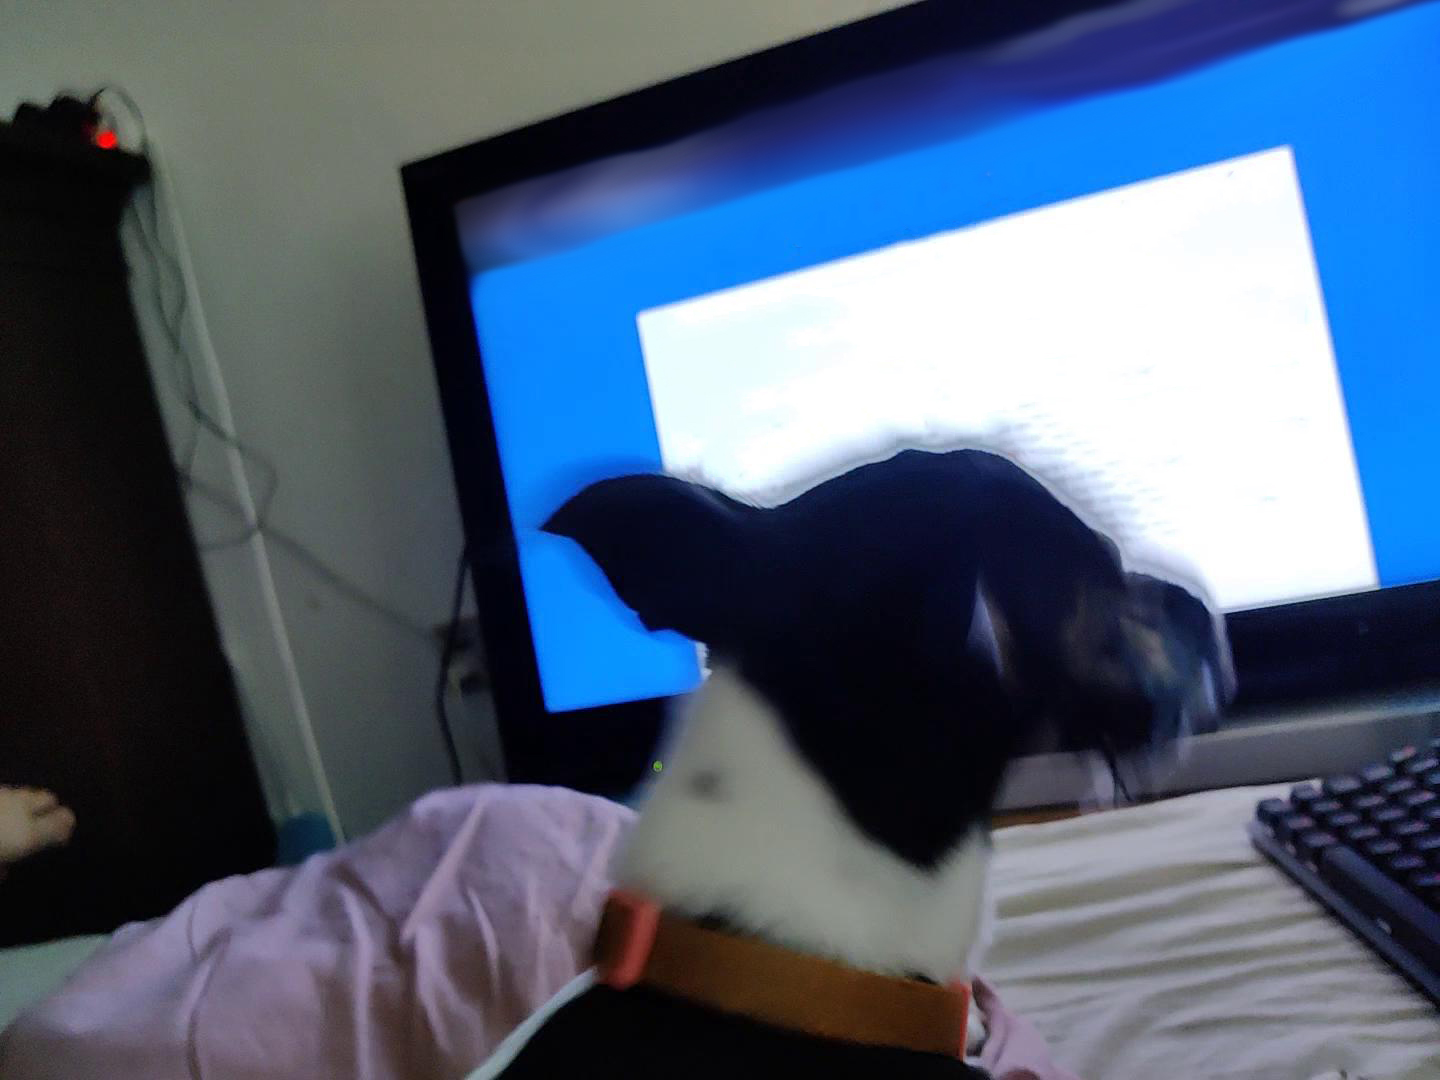Dog: (438, 422, 1245, 1079)
